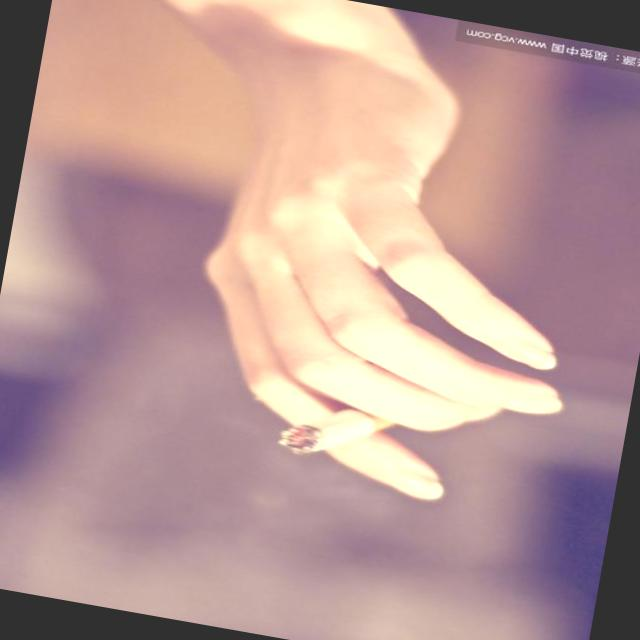smoke: (270, 400, 375, 472)
